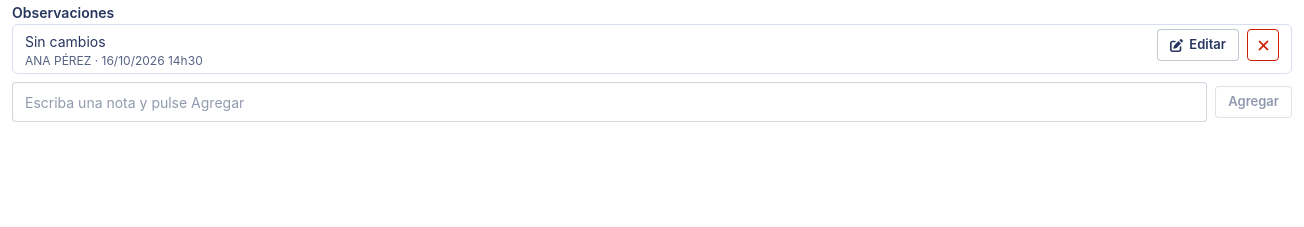
Test: ObservacionesOperativo · corregir una nota de la sesión › Escape cancela y deja la nota como estaba
Click the button with aria-label "Editar la nota: Sin cambios": {"x": 1198, "y": 45} [1157,29,1239,61]
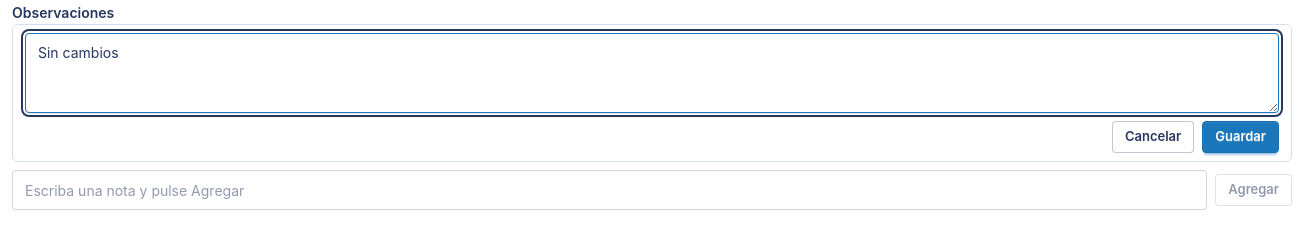
In the text box named "Corregir la nota: Sin cambios": {"x": 652, "y": 73} [25,33,1279,113], type " más"
Then press Escape
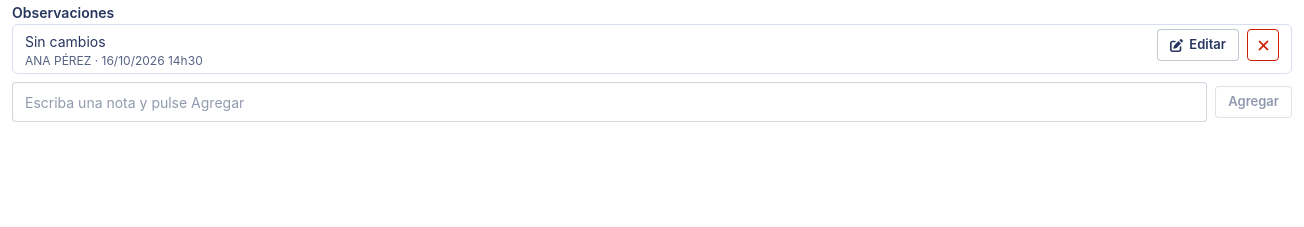
Check: the text "Sin cambios" is shown, box [25,33,106,50]
